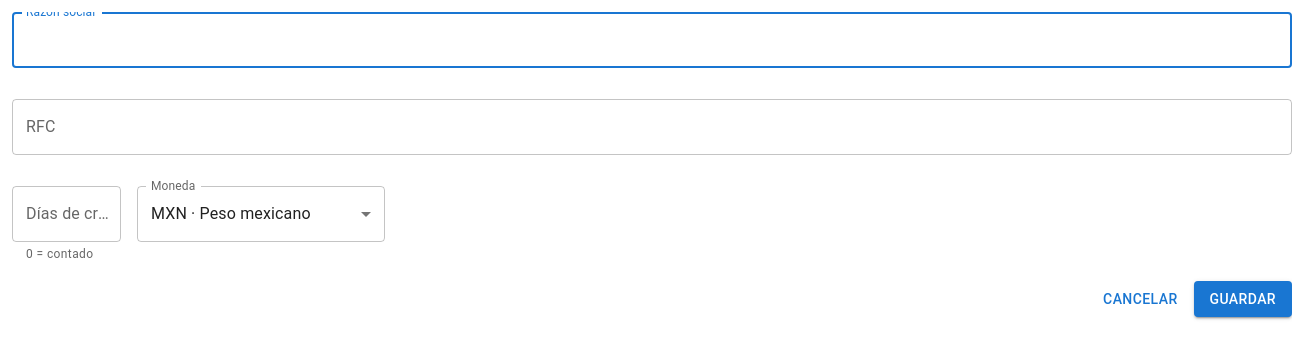
Scenario: SupplierForm › AC-002-07 muestra el error de cada campo antes de enviar
Type "Distribuidora del Norte" into the field labelled "Razón social" at (652, 40), box [12,12,1292,68]
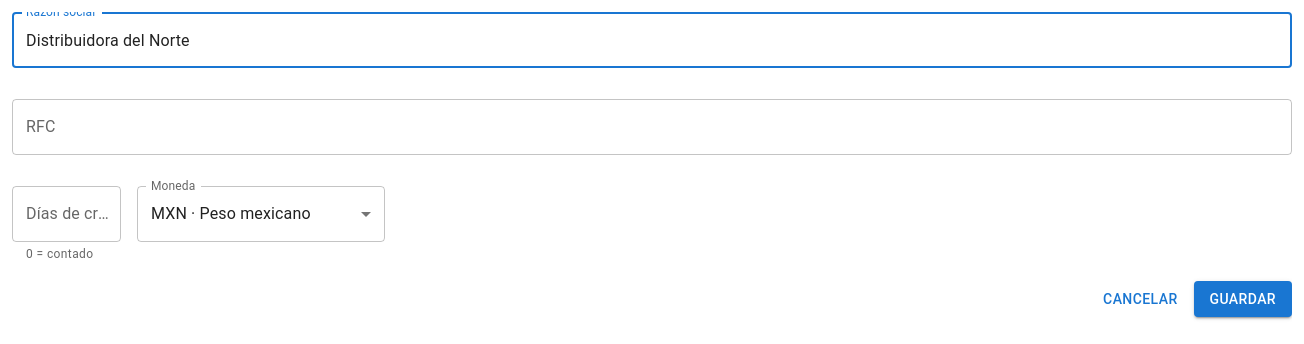
Type "no-es-rfc" into the field labelled "RFC" at (652, 127), box [12,99,1292,155]
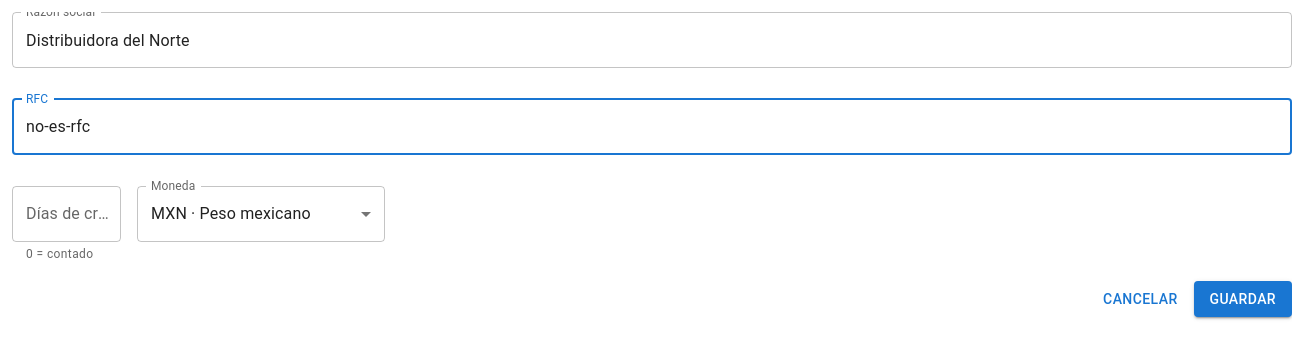
Click the button "Guardar" at (1243, 299), box [1194,281,1292,317]
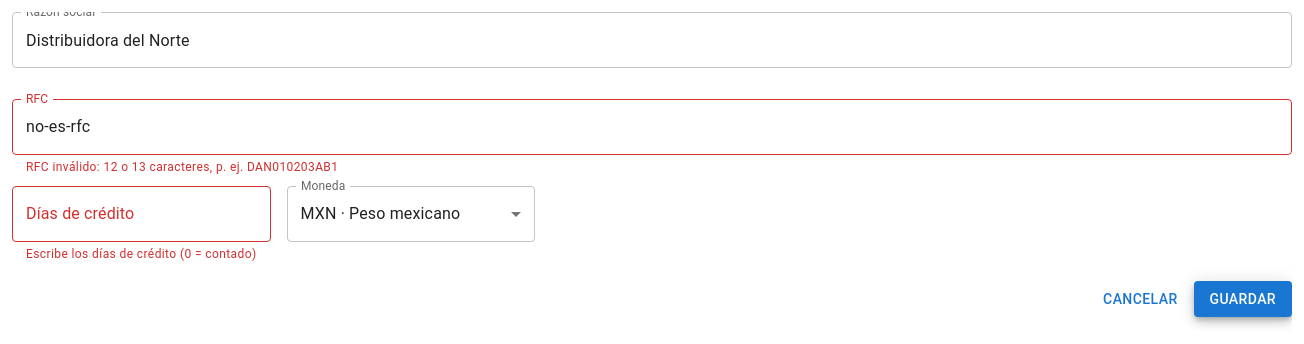
Expected: the text "RFC inválido: 12 o 13 caracteres, p. ej. DAN010203AB1" is shown, [26,160,338,174]
Expected: the text "Escribe los días de crédito (0 = contado)" is shown, [26,245,256,265]
